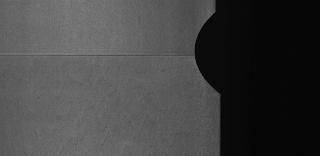welding line: (1, 51, 201, 63)
